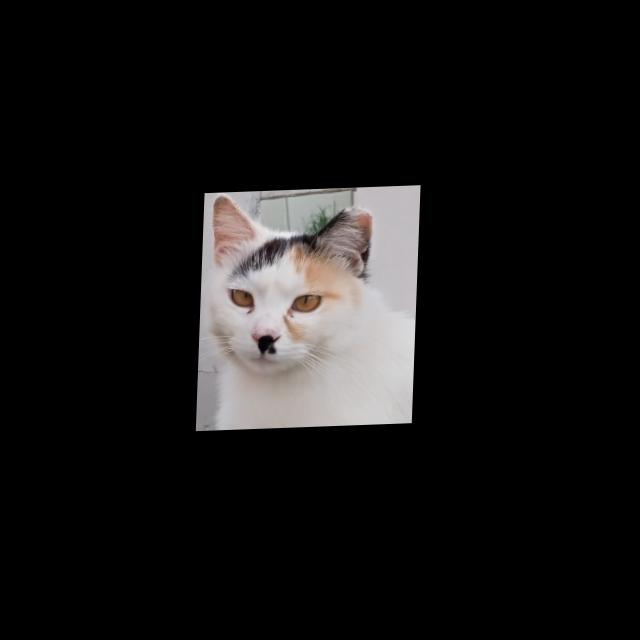animals: (200, 190, 379, 392)
